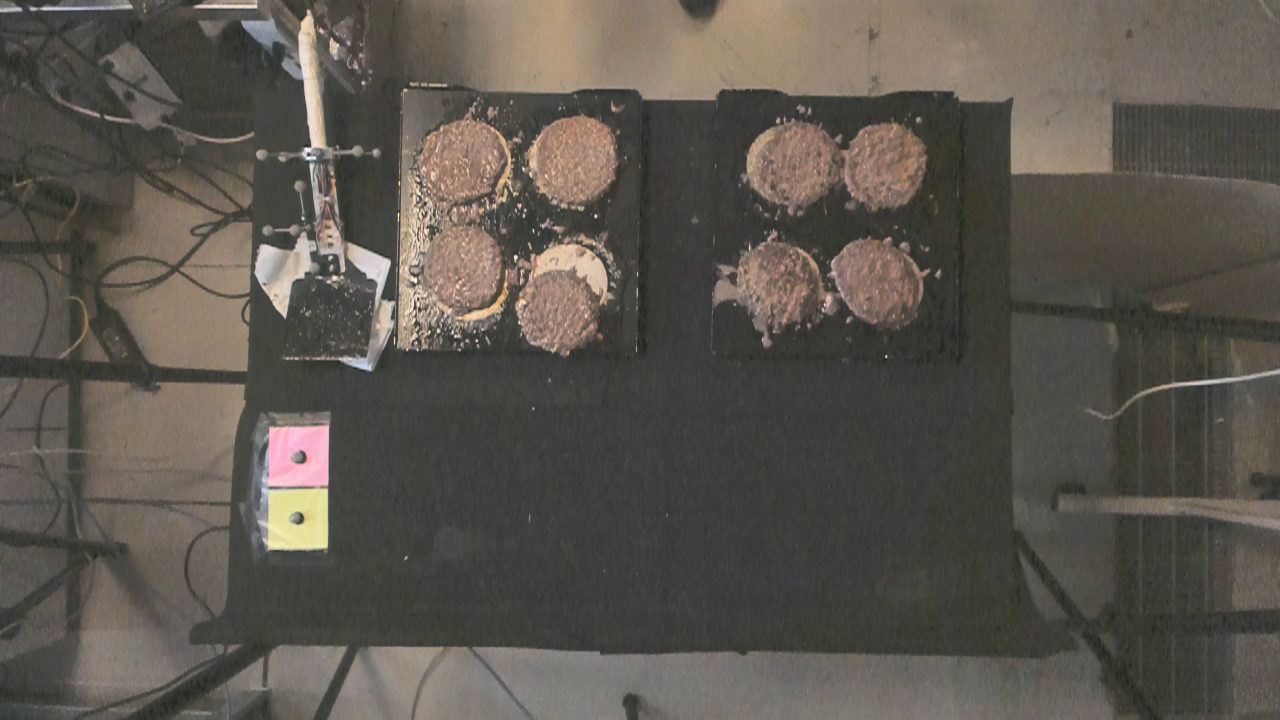hamburger: (747, 119, 839, 211), (737, 242, 819, 335), (847, 119, 926, 214), (835, 233, 916, 325), (533, 119, 618, 206), (419, 118, 507, 200), (520, 270, 600, 350), (424, 231, 501, 311)
marker: (267, 425, 330, 485)
